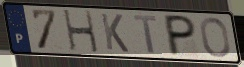7: (31, 8, 59, 51)
H: (61, 8, 101, 54)
K: (98, 12, 131, 54)
O: (198, 16, 232, 59)
P: (164, 13, 198, 58)
T: (132, 13, 159, 55)
